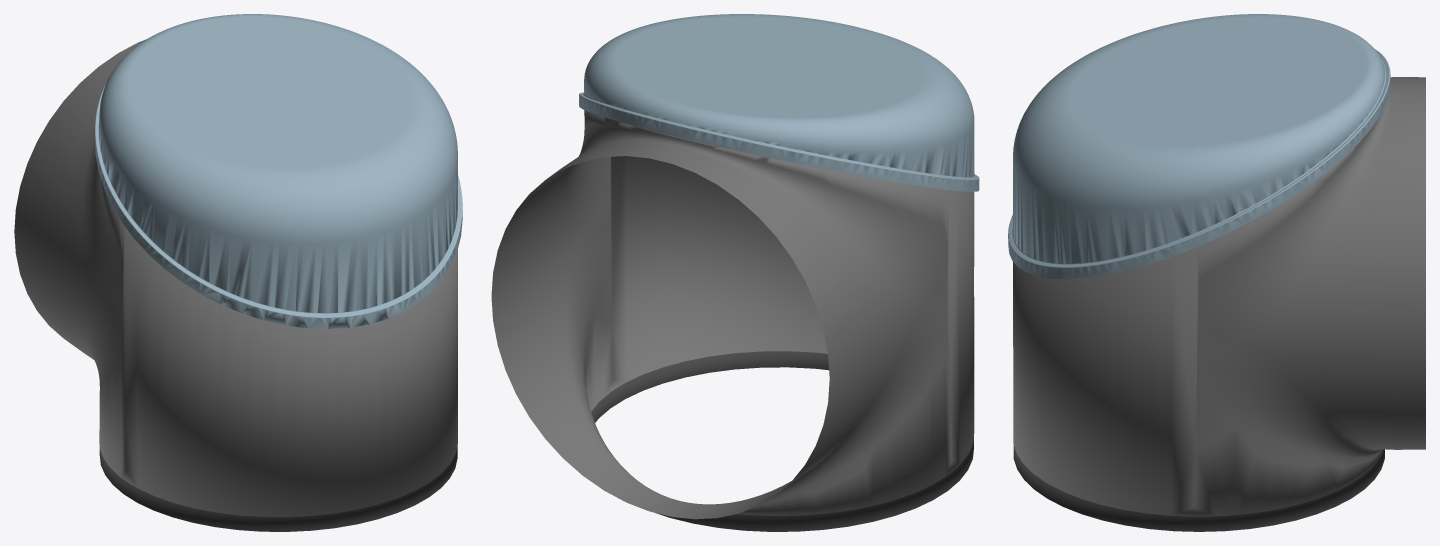
File: shoulder.dae
The picture shows the model from 3 angles, left to right: view 1: azimuth 30°, elevation 25°; view 2: azimuth 150°, elevation 25°; view 3: azimuth 270°, elevation 25°; orthographic projection. The views are drawn at different scales.
Visible parts, largest first — view 1: Actor0, Actor1; view 2: Actor0, Actor1; view 3: Actor0, Actor1.
Boxes of the visible parts, left/top/right/bottom form: Actor0: left=14, top=39, right=457, bottom=531; Actor1: left=94, top=14, right=462, bottom=328; Actor0: left=491, top=110, right=974, bottom=531; Actor1: left=579, top=14, right=979, bottom=191; Actor0: left=1013, top=77, right=1425, bottom=531; Actor1: left=1008, top=14, right=1390, bottom=279.
Bounding box in the file's own units: 0.119 × 0.13 × 0.1337.
